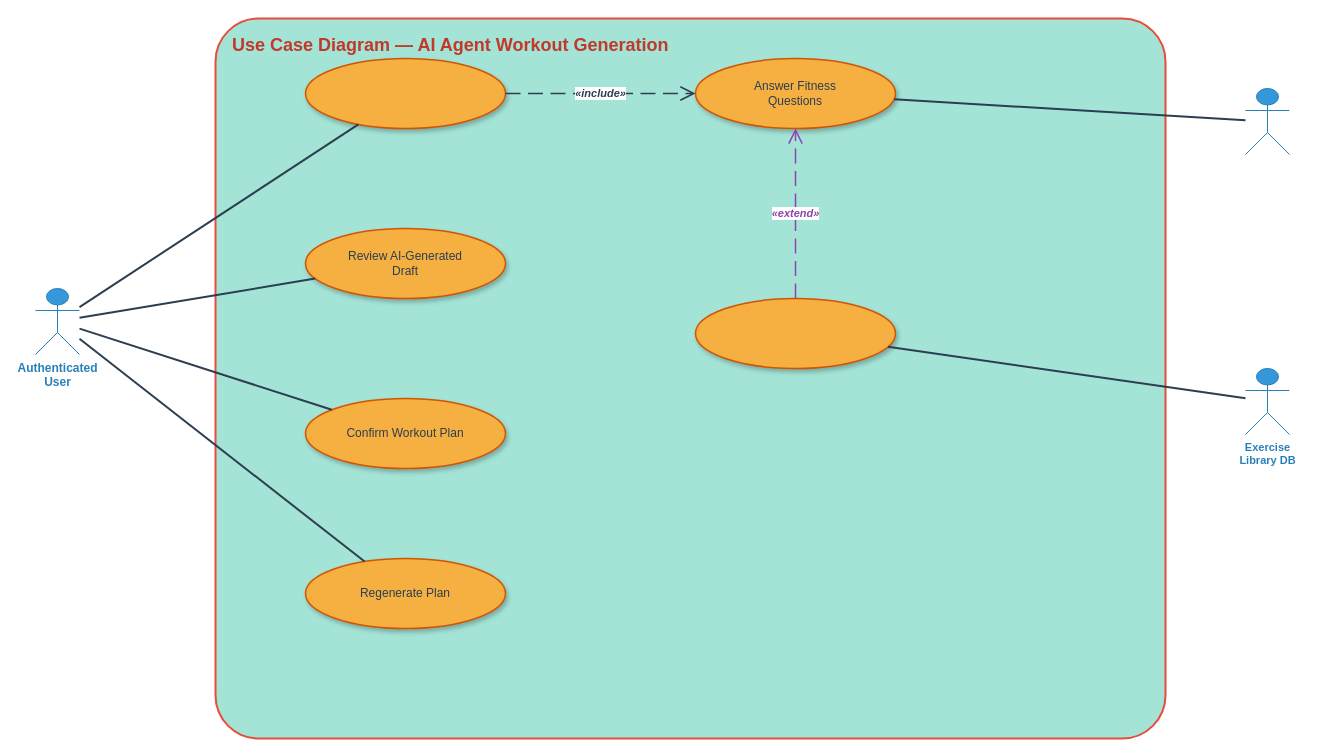
Some shapes in this 1317 by 756 pixel diagram are drawn without their labels. Each missing label, with the centre of its shape:
AI Service (Claude API): the point at 1267,121
Query Exercise Library: the point at 796,334
Start AI Interview: the point at 406,94
